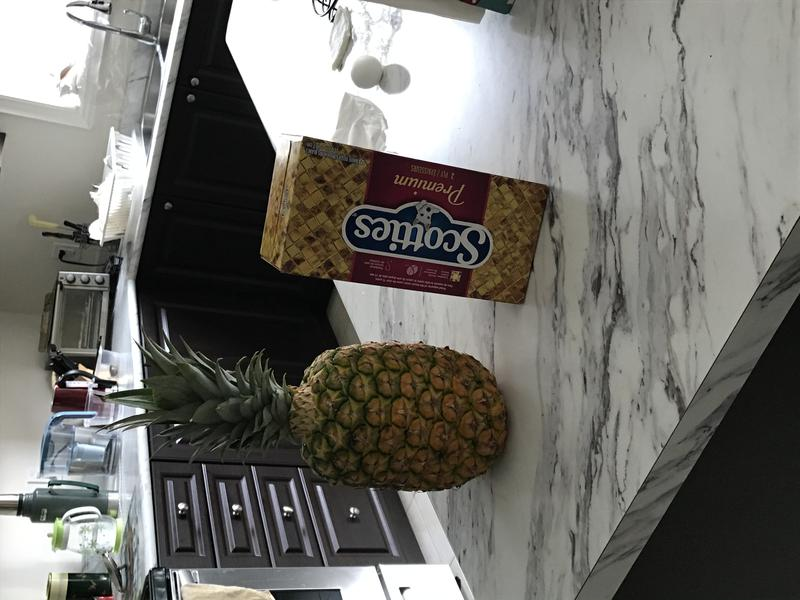pineapple: (80, 323, 514, 495)
